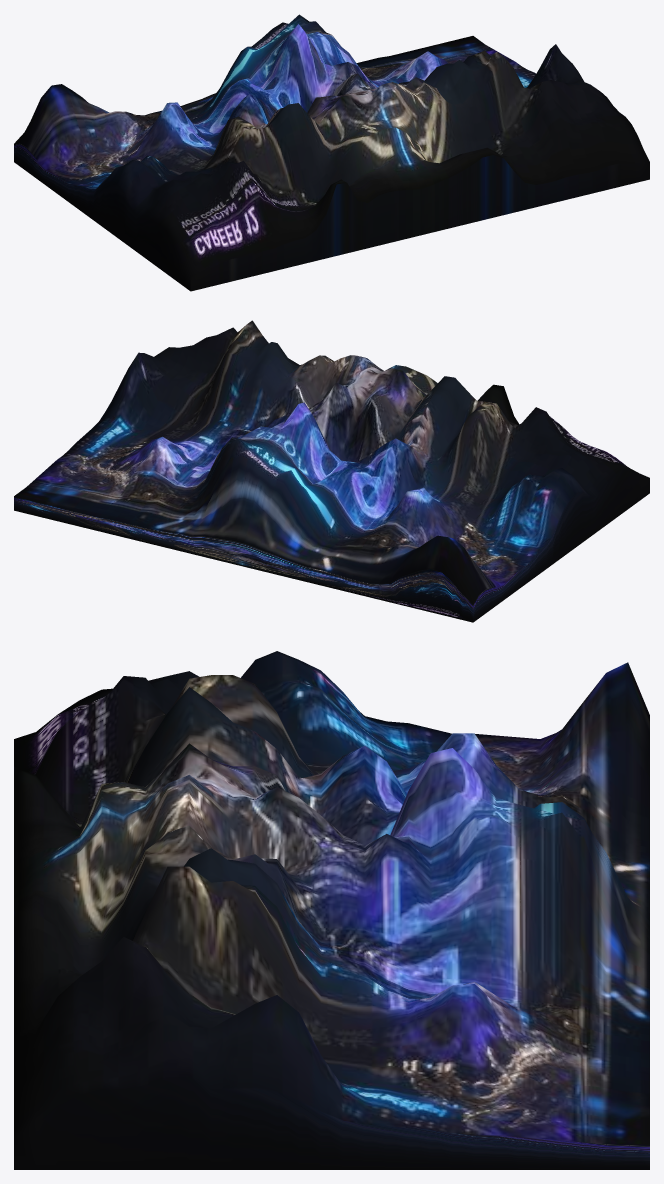
Rendered from CAREER_12_VFX_02_Votes.glb.
3 renders of one model, top to bottom at view 1: azimuth 30°, elevation 25°; view 2: azimuth 150°, elevation 25°; view 3: azimuth 270°, elevation 25°, orthographic. The views are drawn at different scales.
Parts seen in each view (by area): view 1: CAREER_12_VFX_02_Votes; view 2: CAREER_12_VFX_02_Votes; view 3: CAREER_12_VFX_02_Votes.
Boxes of the visible parts, <box> form: CAREER_12_VFX_02_Votes: <box>14,14,649,291</box>; CAREER_12_VFX_02_Votes: <box>14,320,649,622</box>; CAREER_12_VFX_02_Votes: <box>14,651,649,1169</box>.
Bounding box in the file's own units: 2 × 0.51 × 1.33.
Materials: 1 (1 with a texture image).
